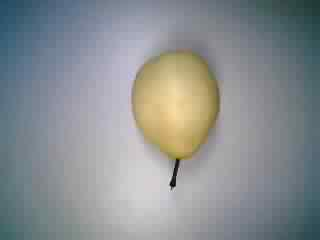pear: (118, 47, 231, 194)
